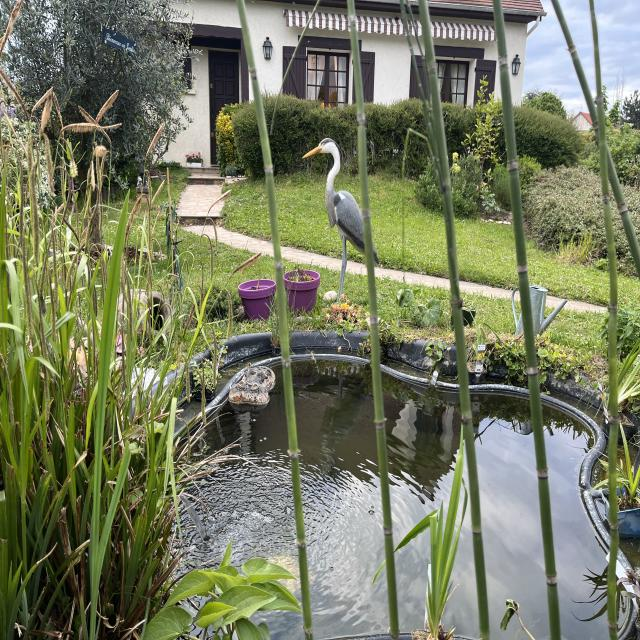Heron: (297, 119, 379, 300)
